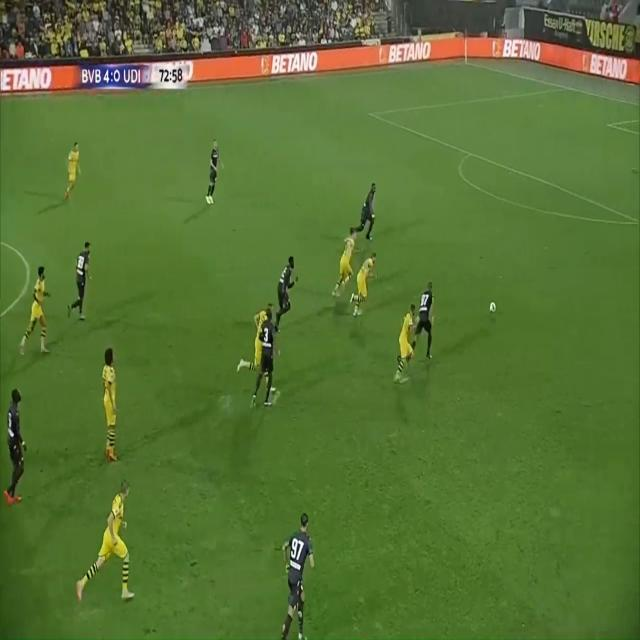ball: (487, 298, 504, 324)
player: (77, 470, 138, 610), (276, 507, 320, 640), (19, 257, 54, 360), (265, 244, 305, 332), (95, 345, 122, 463), (6, 379, 30, 511), (244, 294, 273, 387), (256, 311, 280, 414), (350, 247, 382, 323), (330, 220, 358, 300), (72, 238, 96, 330), (394, 301, 416, 396), (418, 280, 440, 369), (353, 179, 380, 246), (203, 138, 224, 221), (63, 131, 79, 217)
